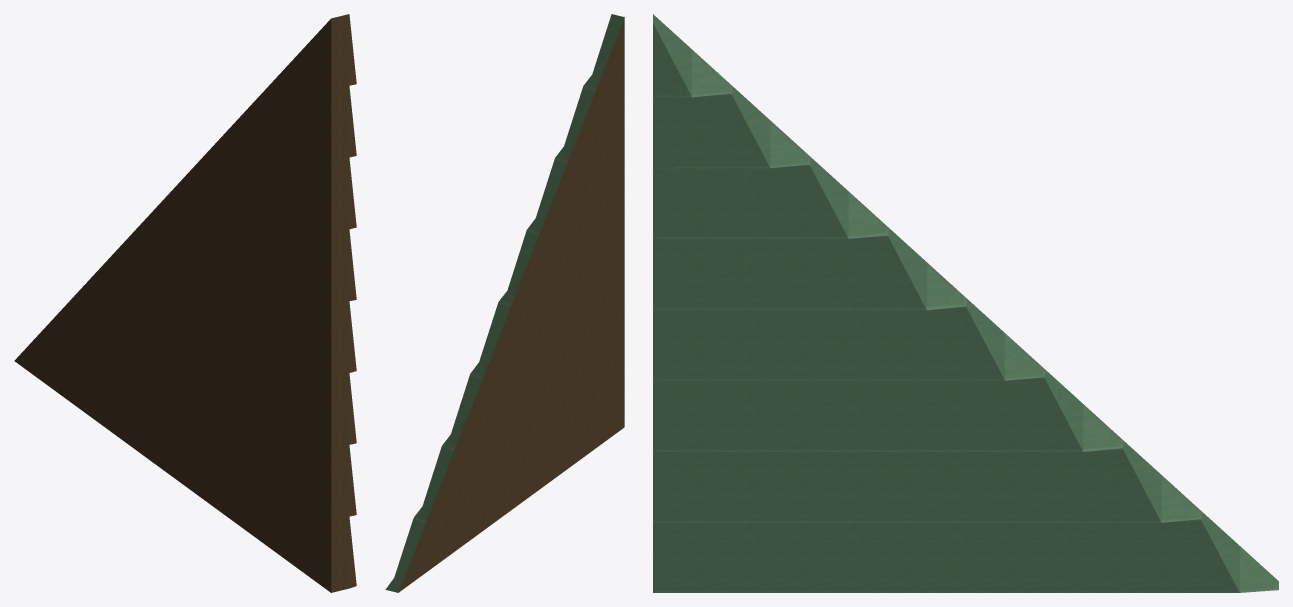
Rendered from 45LSlopeWall.fbx.
3 renders of one model, left to right at view 1: azimuth 30°, elevation 25°; view 2: azimuth 150°, elevation 25°; view 3: azimuth 270°, elevation 25°, orthographic. The views are drawn at different scales.
Visible parts, largest first — view 1: 45LSlopeWall; view 2: 45LSlopeWall; view 3: 45LSlopeWall.
Boxes of the visible parts, bbox=[...] form: 45LSlopeWall: bbox=[14, 14, 356, 592]; 45LSlopeWall: bbox=[385, 14, 624, 592]; 45LSlopeWall: bbox=[653, 14, 1278, 592].
Size of the model in its own units: 14.77 by 316 by 316.
